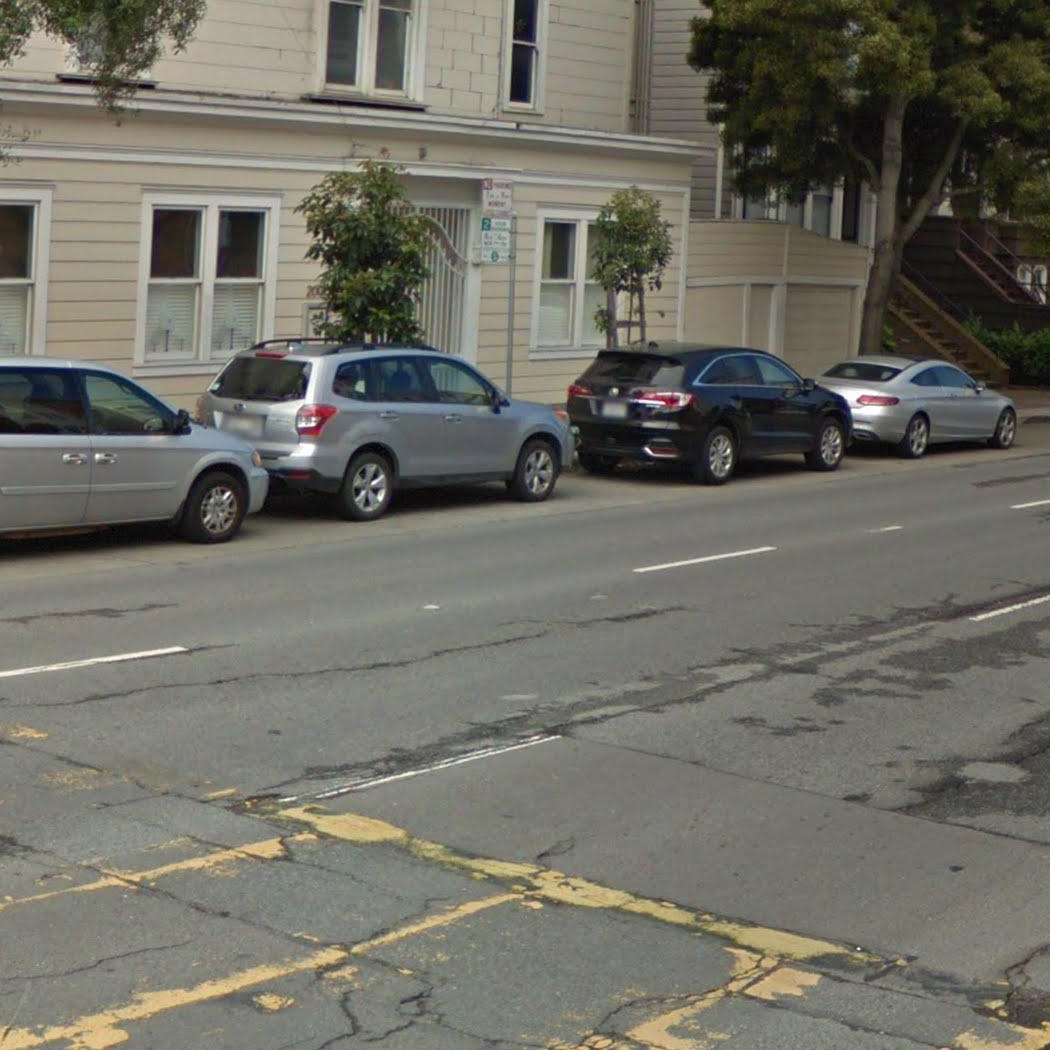2 Hour Parking: (480, 216, 513, 265)
No Parking: (480, 177, 515, 215)
